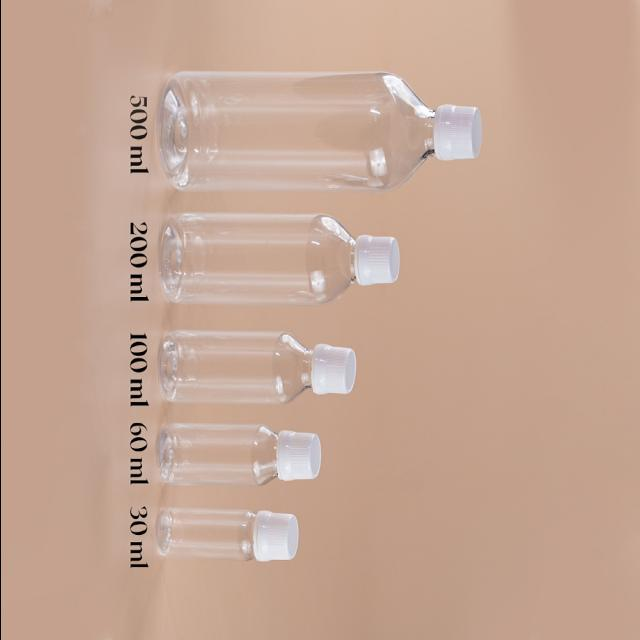bottom: (158, 76, 187, 190), (159, 215, 183, 302), (158, 334, 177, 401), (157, 426, 173, 484), (156, 508, 171, 557)
neck: (372, 73, 434, 191), (305, 215, 355, 305), (273, 333, 311, 404), (250, 425, 277, 485), (240, 511, 257, 560)
